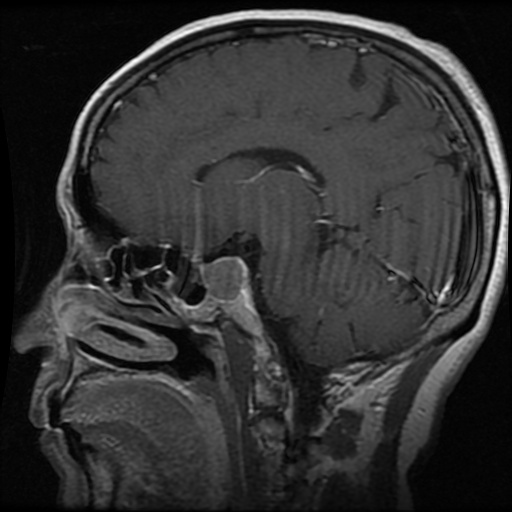pituitary: (202, 257, 244, 299)
